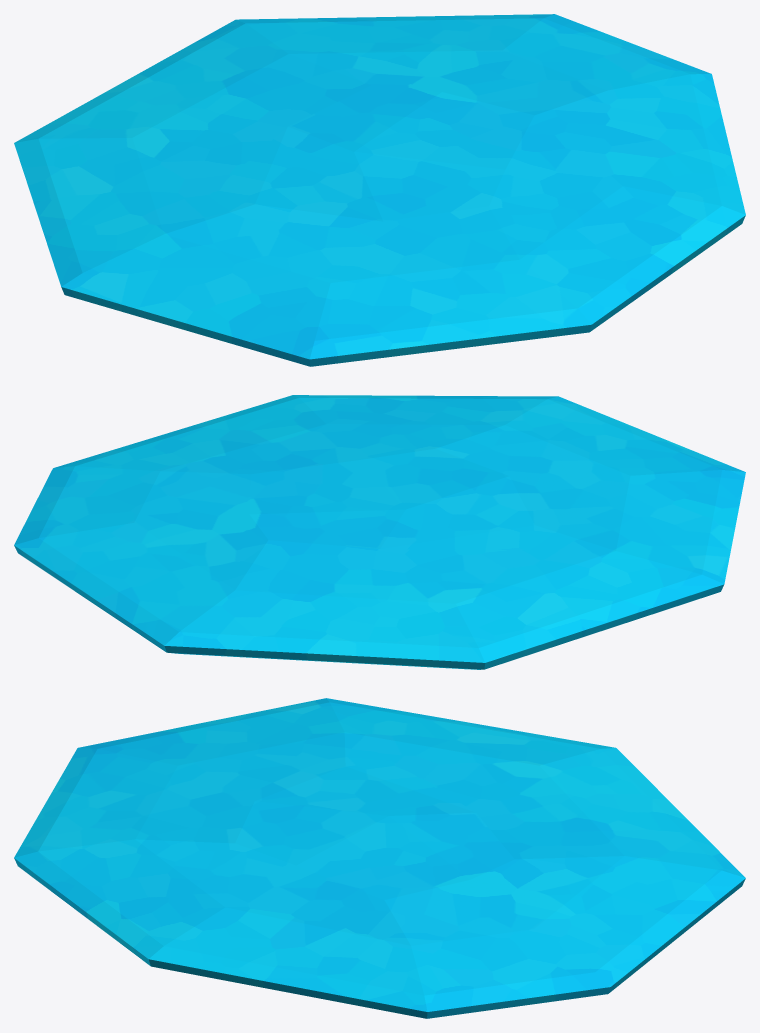
The model's file is IceTrap.fbx.
3 views of the same model, one above another, from view 1: azimuth 30°, elevation 25°; view 2: azimuth 150°, elevation 25°; view 3: azimuth 270°, elevation 25° (orthographic). The views are drawn at different scales.
Visible parts, largest first — view 1: Ice_Hazzerd; view 2: Ice_Hazzerd; view 3: Ice_Hazzerd.
Part boxes in pixels (x1=…): Ice_Hazzerd: x1=14, y1=14, x2=745, y2=366; Ice_Hazzerd: x1=14, y1=395, x2=745, y2=669; Ice_Hazzerd: x1=14, y1=698, x2=745, y2=1018.
Bounding box in the file's own units: 4.19 × 0.276 × 4.13.
